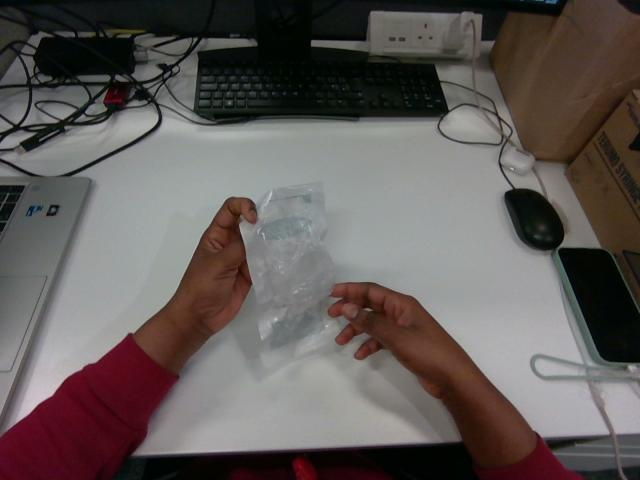gallipot: (240, 183, 337, 365)
